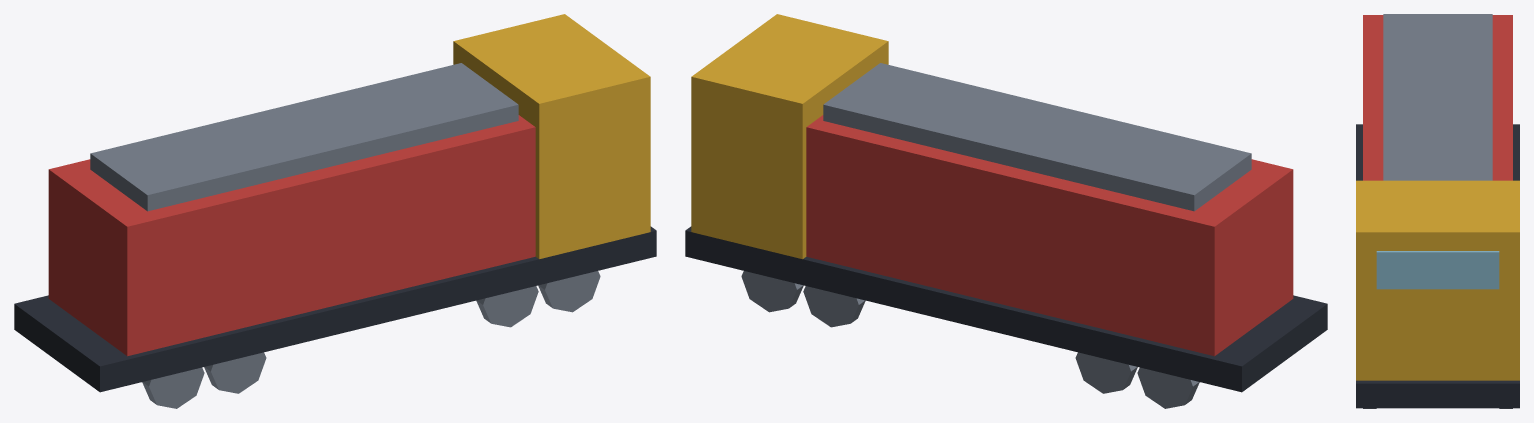
Rendered from locomotive.glb.
3 views of the same model, side by side, from view 1: azimuth 30°, elevation 25°; view 2: azimuth 150°, elevation 25°; view 3: azimuth 270°, elevation 25° (orthographic). The views are drawn at different scales.
Visible parts, largest first — view 1: locomotive; view 2: locomotive; view 3: locomotive.
Boxes of the visible parts, x1,y1,x2,y2 form: locomotive: (14,14,656,408); locomotive: (685,14,1327,408); locomotive: (1356,14,1519,408).
Size of the model in its own units: 9 by 3.4 by 2.4.
